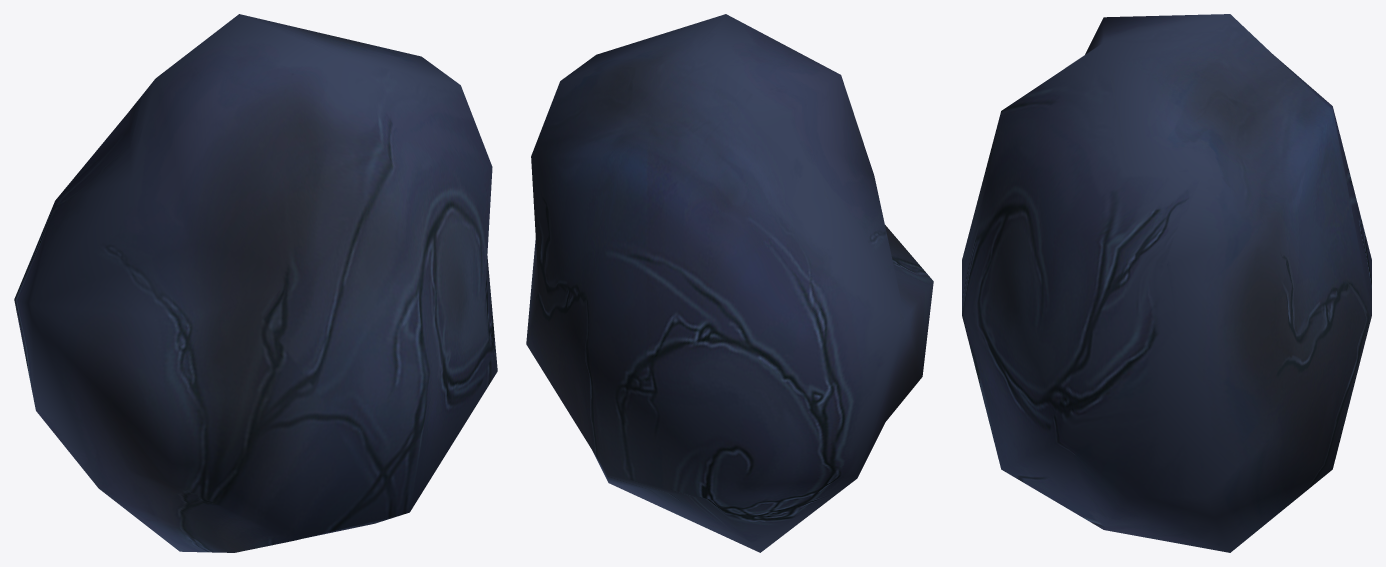
The model's file is SM_SmallRock.FBX.
3 views of the same model, side by side, from view 1: azimuth 30°, elevation 25°; view 2: azimuth 150°, elevation 25°; view 3: azimuth 270°, elevation 25° (orthographic). The views are drawn at different scales.
Visible parts, largest first — view 1: SM_SmallRock; view 2: SM_SmallRock; view 3: SM_SmallRock.
Part boxes in pixels (bbox=[...]): SM_SmallRock: bbox=[14, 14, 497, 552]; SM_SmallRock: bbox=[526, 14, 933, 552]; SM_SmallRock: bbox=[962, 14, 1371, 552].
Size of the model in its own units: 18.97 by 22.68 by 16.1.
Materials: 1 (1 with a texture image).
